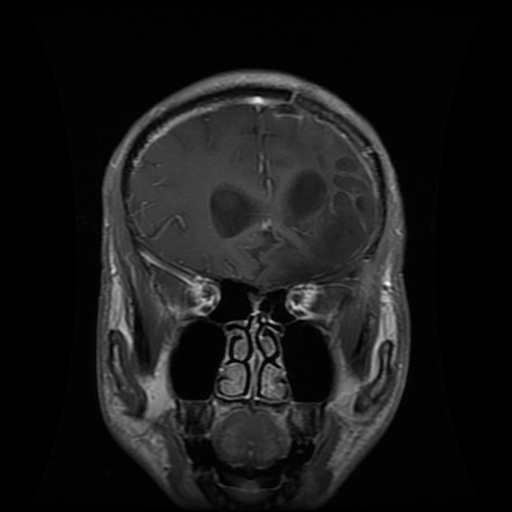glioma: (266, 157, 379, 283)
